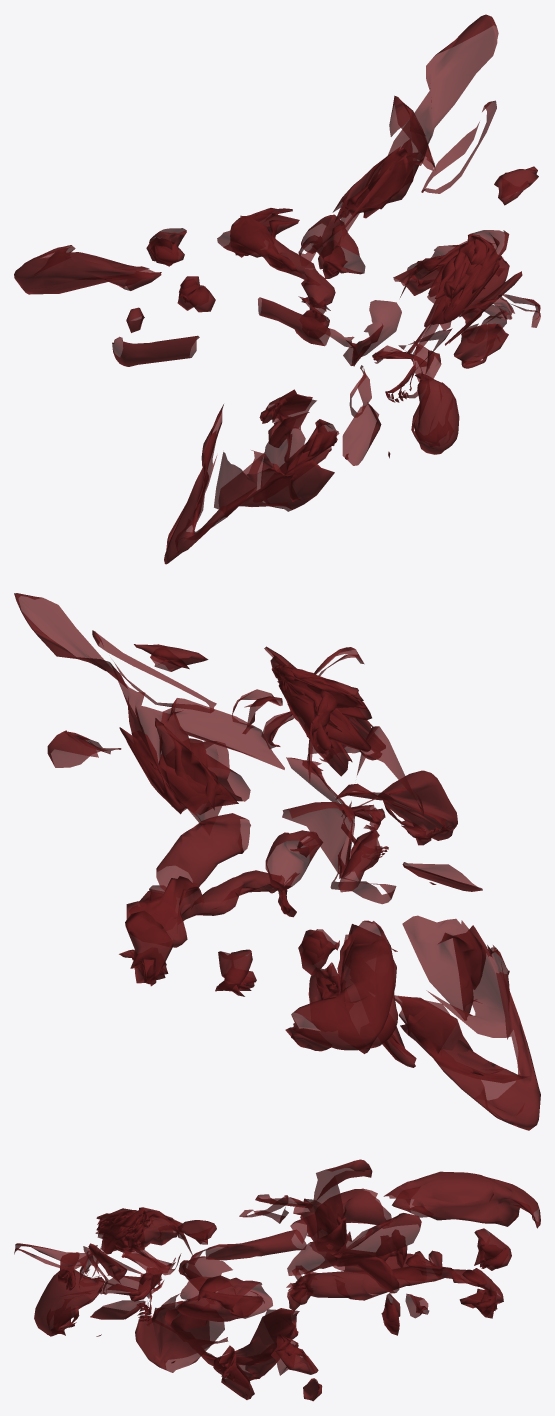
The model's file is TYTYBALOAR.obj.
The picture shows the model from 3 angles, top to bottom: view 1: azimuth 30°, elevation 25°; view 2: azimuth 150°, elevation 25°; view 3: azimuth 270°, elevation 25°; orthographic projection. The views are drawn at different scales.
Visible parts, largest first — view 1: Nickz_humanMaleAveragefoda; view 2: Nickz_humanMaleAveragefoda; view 3: Nickz_humanMaleAveragefoda.
Part boxes in pixels (bbox=[...]): Nickz_humanMaleAveragefoda: bbox=[14, 14, 540, 564]; Nickz_humanMaleAveragefoda: bbox=[14, 593, 540, 1130]; Nickz_humanMaleAveragefoda: bbox=[14, 1159, 540, 1401].
Bounding box in the file's own units: 5421 × 5410 × 6293.
